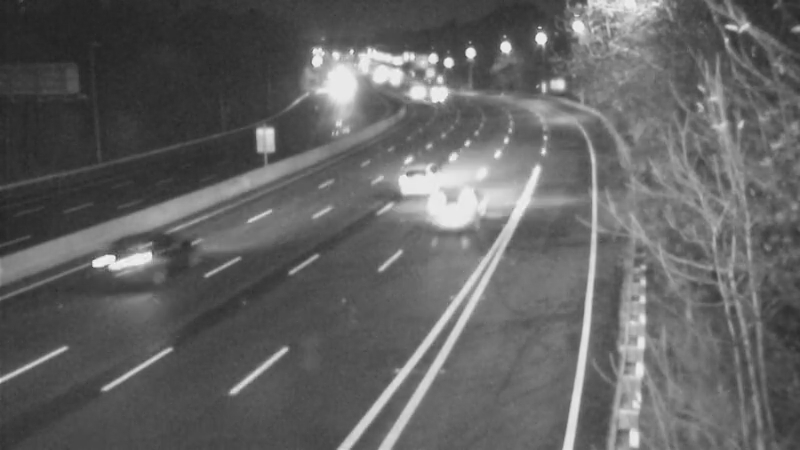vehicle: (380, 135, 460, 215), (412, 167, 492, 247), (93, 221, 173, 301)
